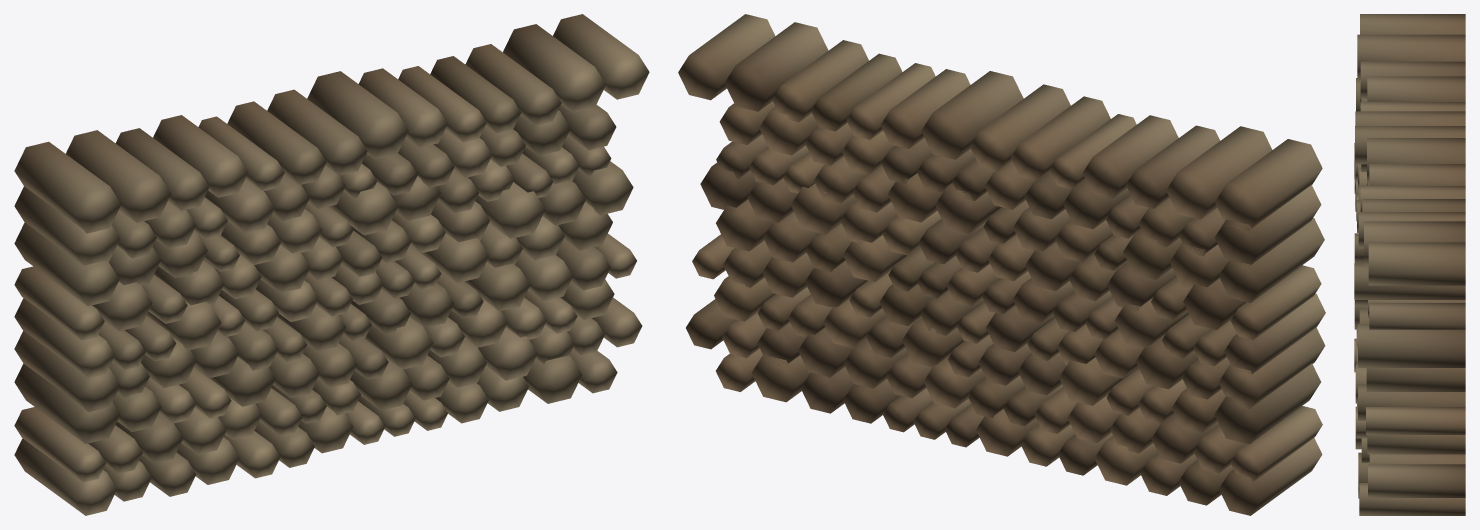
Rendered from SM_LogPile_1_Wood.glb.
The picture shows the model from 3 angles, left to right: view 1: azimuth 30°, elevation 25°; view 2: azimuth 150°, elevation 25°; view 3: azimuth 270°, elevation 25°; orthographic projection. The views are drawn at different scales.
Visible parts, largest first — view 1: SM_LogPile_1_Wood; view 2: SM_LogPile_1_Wood; view 3: SM_LogPile_1_Wood.
Boxes of the visible parts, bbox=[...] form: SM_LogPile_1_Wood: bbox=[14, 14, 649, 515]; SM_LogPile_1_Wood: bbox=[678, 14, 1325, 515]; SM_LogPile_1_Wood: bbox=[1354, 14, 1465, 515].
Size of the model in its own units: 2.24 by 1.2 by 0.4296.
